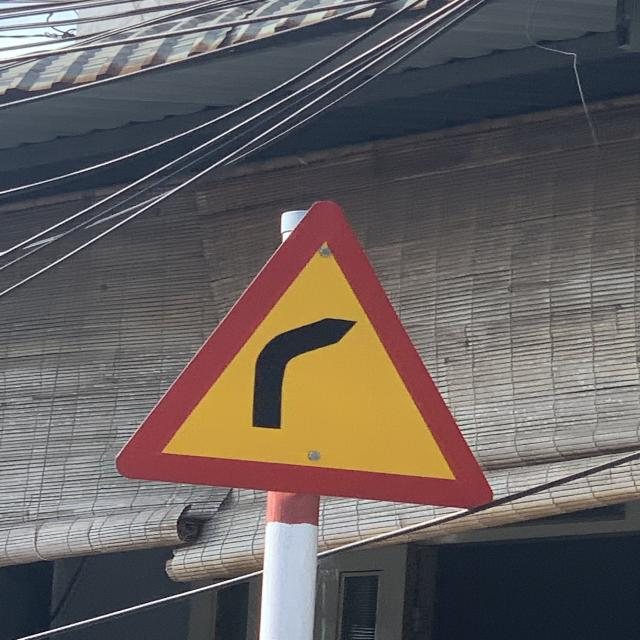Duong_Nguoi_Di_Bo_Cat_Ngang: (114, 201, 494, 510)
